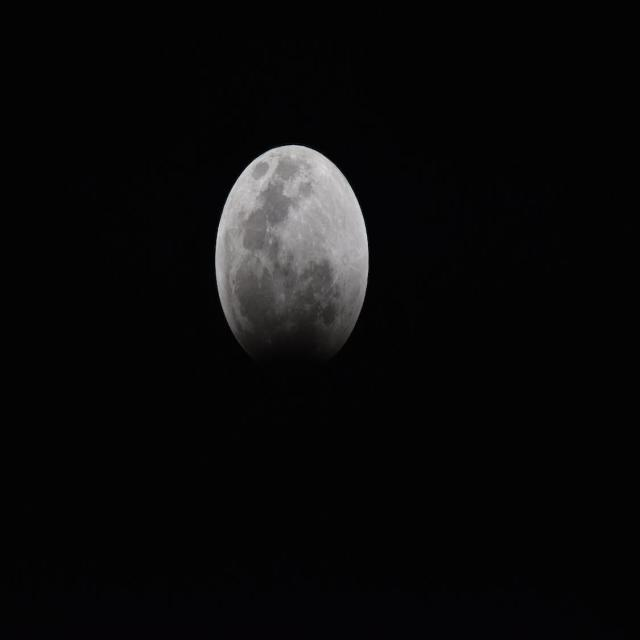moon: (208, 131, 381, 389)
